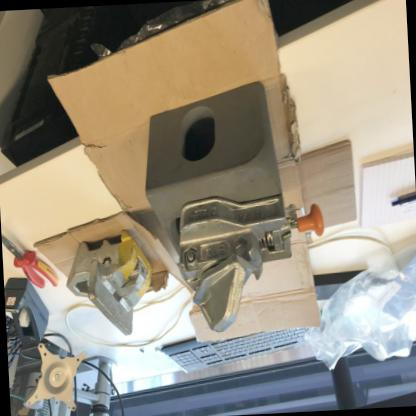CornerCasting: (158, 76, 288, 274)
Twistlock: (171, 181, 331, 344), (61, 229, 158, 348)
